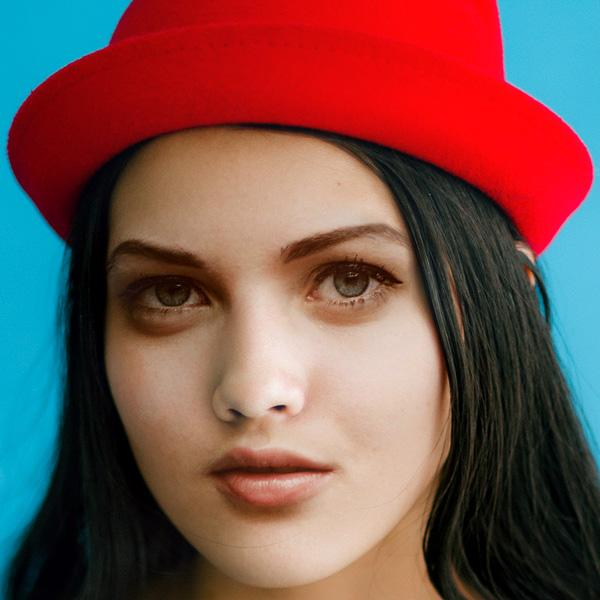Eyes: (295, 251, 406, 321), (113, 268, 219, 336)
